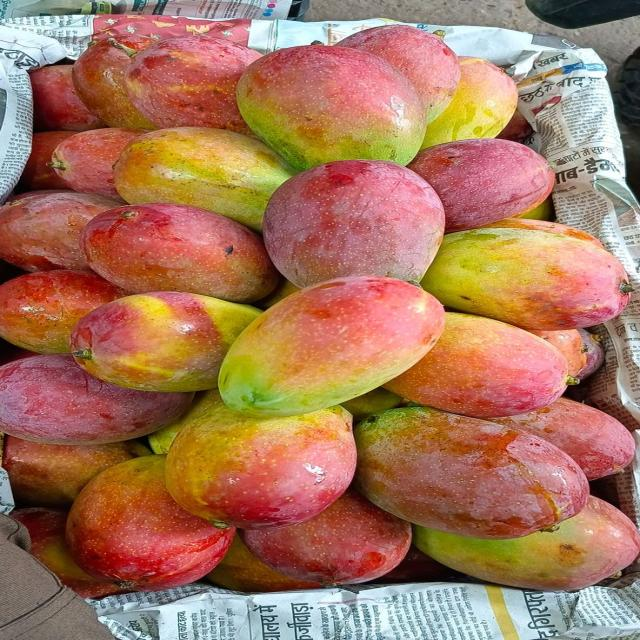mango: (220, 276, 444, 416), (355, 408, 588, 538), (167, 403, 356, 528), (237, 46, 426, 170), (264, 160, 445, 287), (67, 455, 234, 590), (422, 229, 632, 330), (414, 497, 639, 590), (385, 313, 573, 418), (80, 204, 277, 302), (71, 292, 260, 391), (114, 128, 293, 230), (0, 355, 193, 445), (242, 490, 411, 586), (409, 139, 554, 232), (125, 35, 260, 133), (337, 25, 459, 122), (492, 398, 634, 479), (2, 435, 150, 507), (0, 270, 126, 353), (12, 508, 126, 598), (0, 191, 121, 271), (422, 57, 518, 148), (72, 34, 156, 129), (50, 128, 146, 199), (206, 536, 321, 592), (29, 65, 105, 131), (148, 389, 222, 453), (480, 217, 604, 248), (17, 132, 74, 191), (371, 546, 457, 584), (530, 330, 586, 379), (342, 388, 403, 420), (254, 277, 299, 309), (577, 329, 605, 379), (496, 111, 533, 142), (518, 196, 554, 221)
